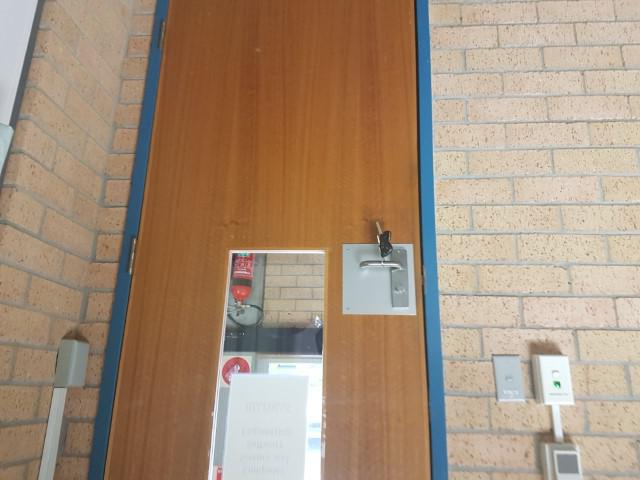key: (373, 219, 397, 258)
